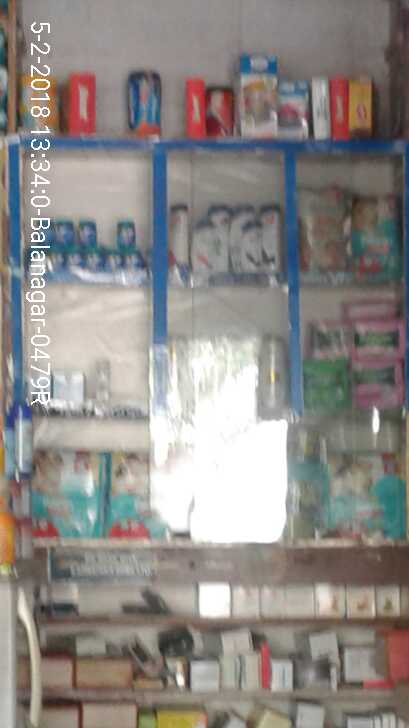vicks: (23, 214, 149, 274)
